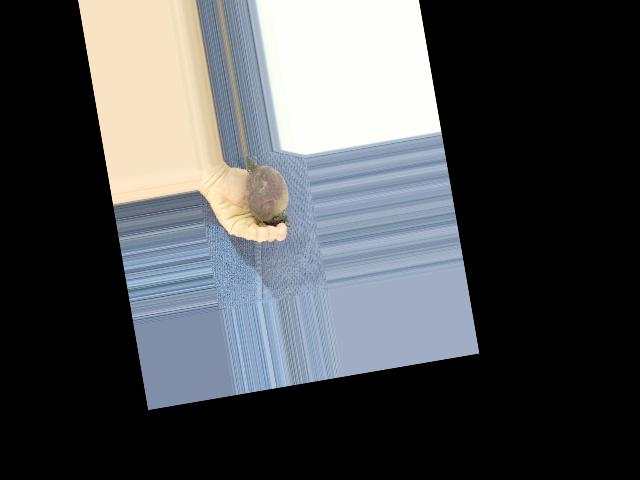beet: (238, 150, 293, 234)
